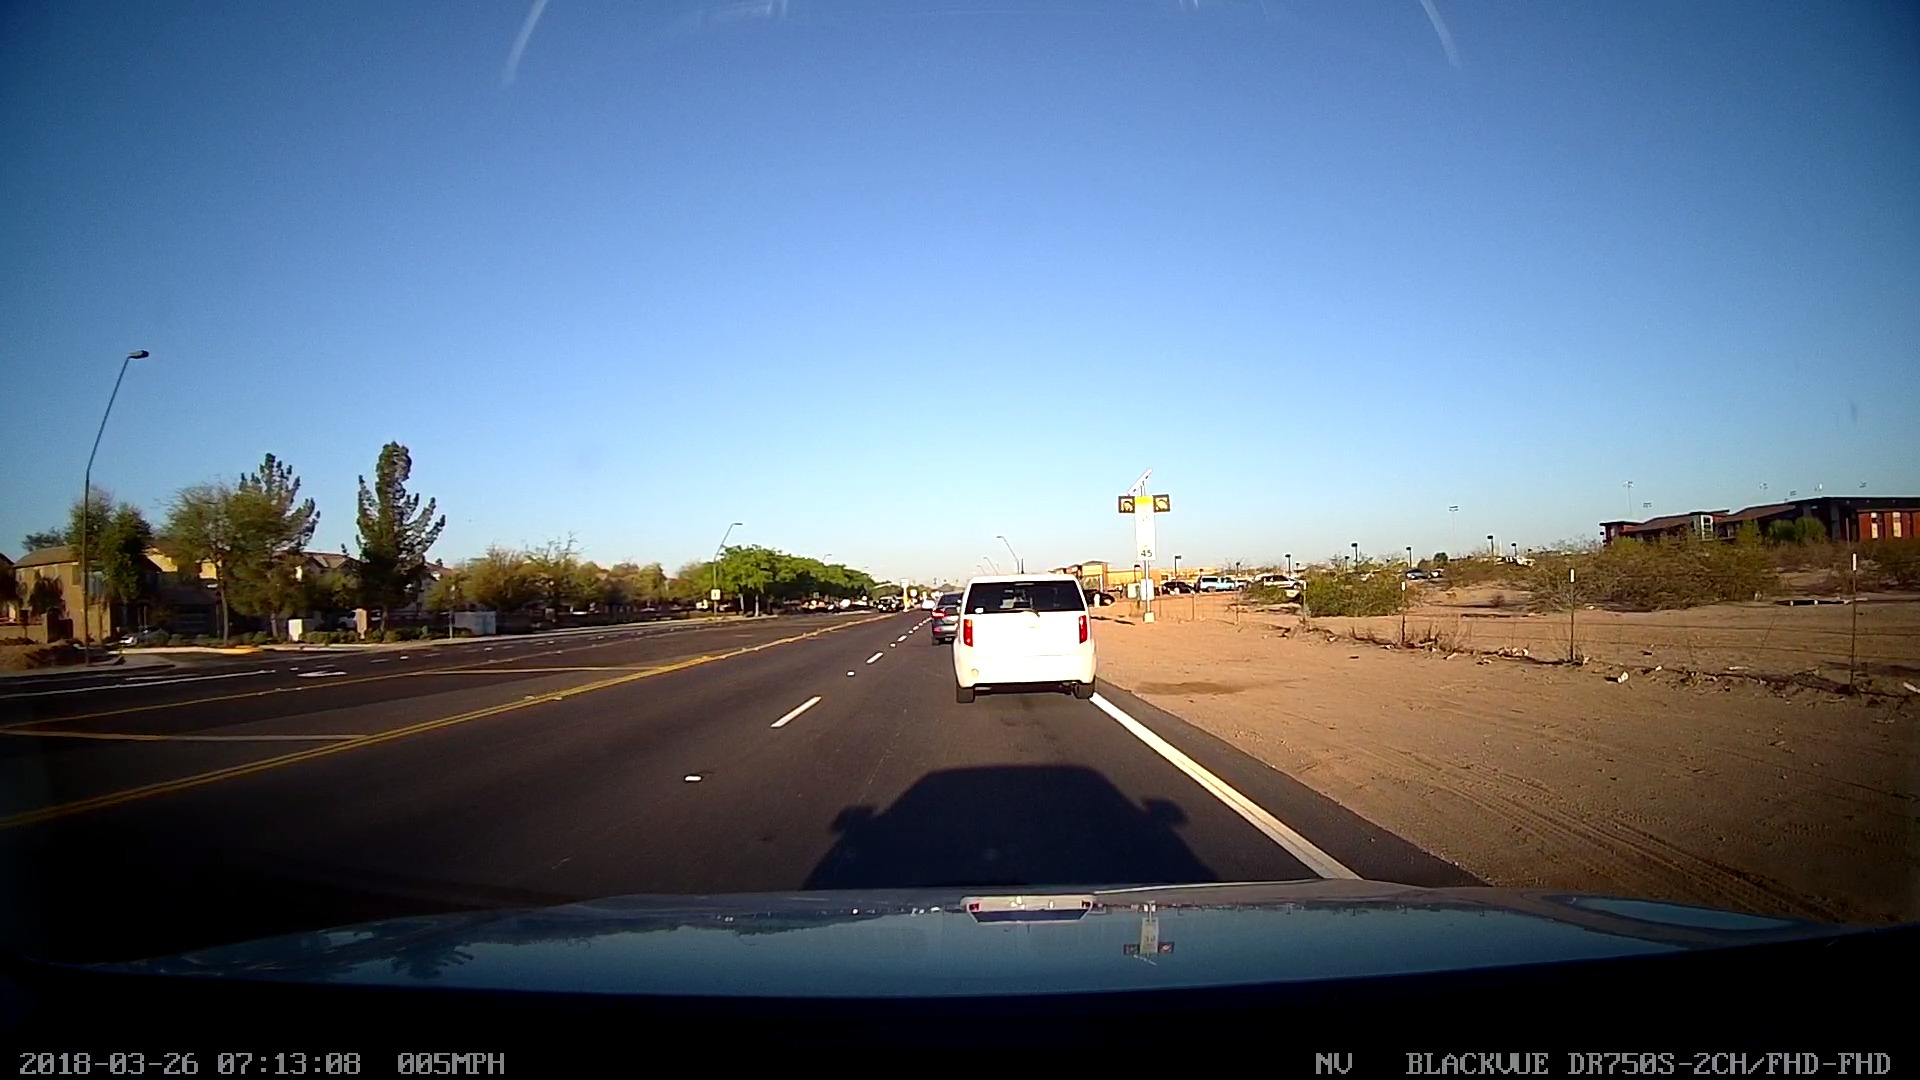vehicle: (942, 566, 1106, 705), (916, 580, 986, 658)
